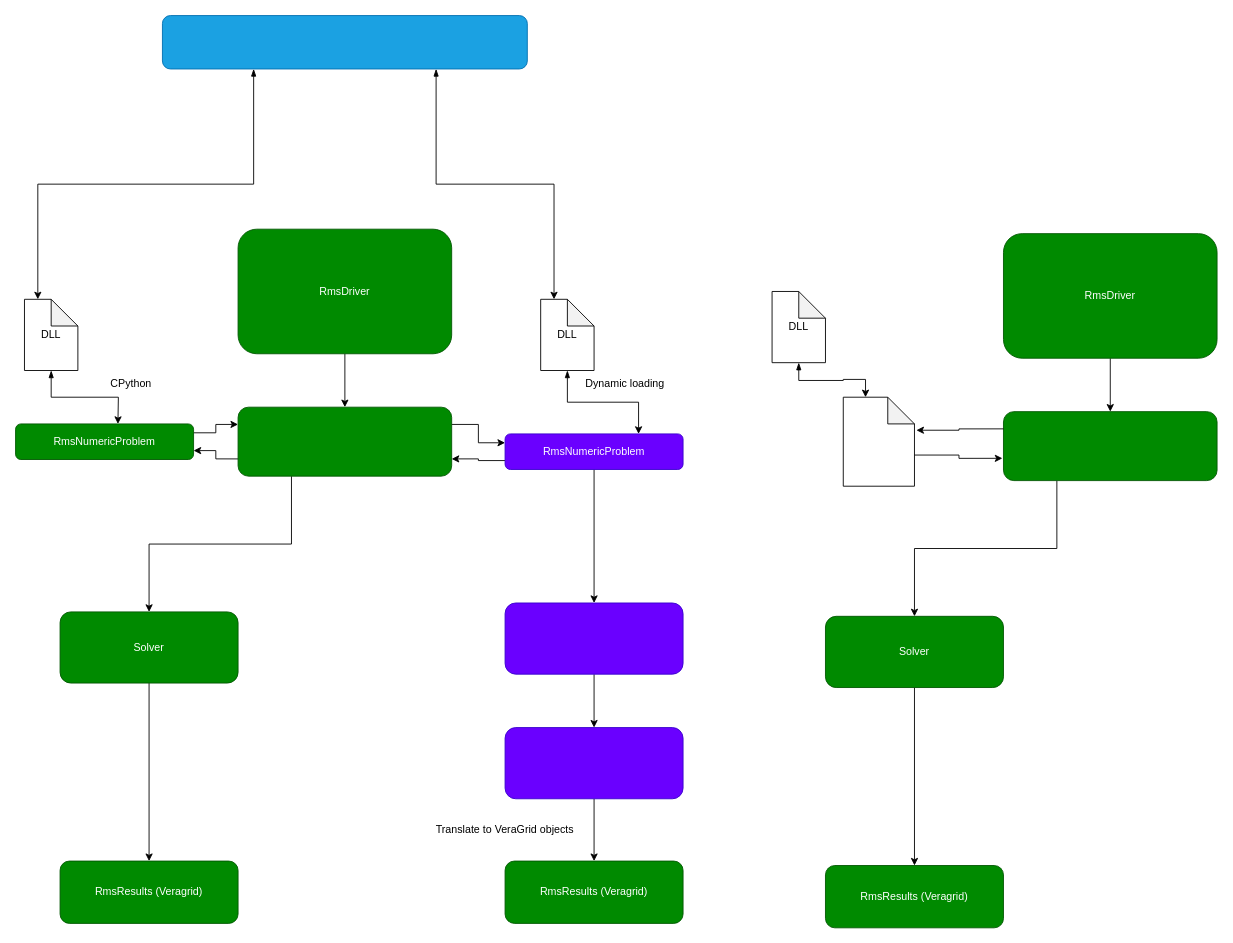
The diagram is 1233 pixels wide and 943 high, and some of its shapes have lost their labels. Here are the shapes that lost their labels. From the top down, the centre of each, then its label:
At point (344, 42): "DLL Manager".
At point (344, 441): "RmsProblemDLL".
At point (878, 441): "Numba functions".
At point (1110, 446): "RmsProblemDae".
At point (593, 638): "gslv.Solver".
At point (593, 763): "numerical results".
